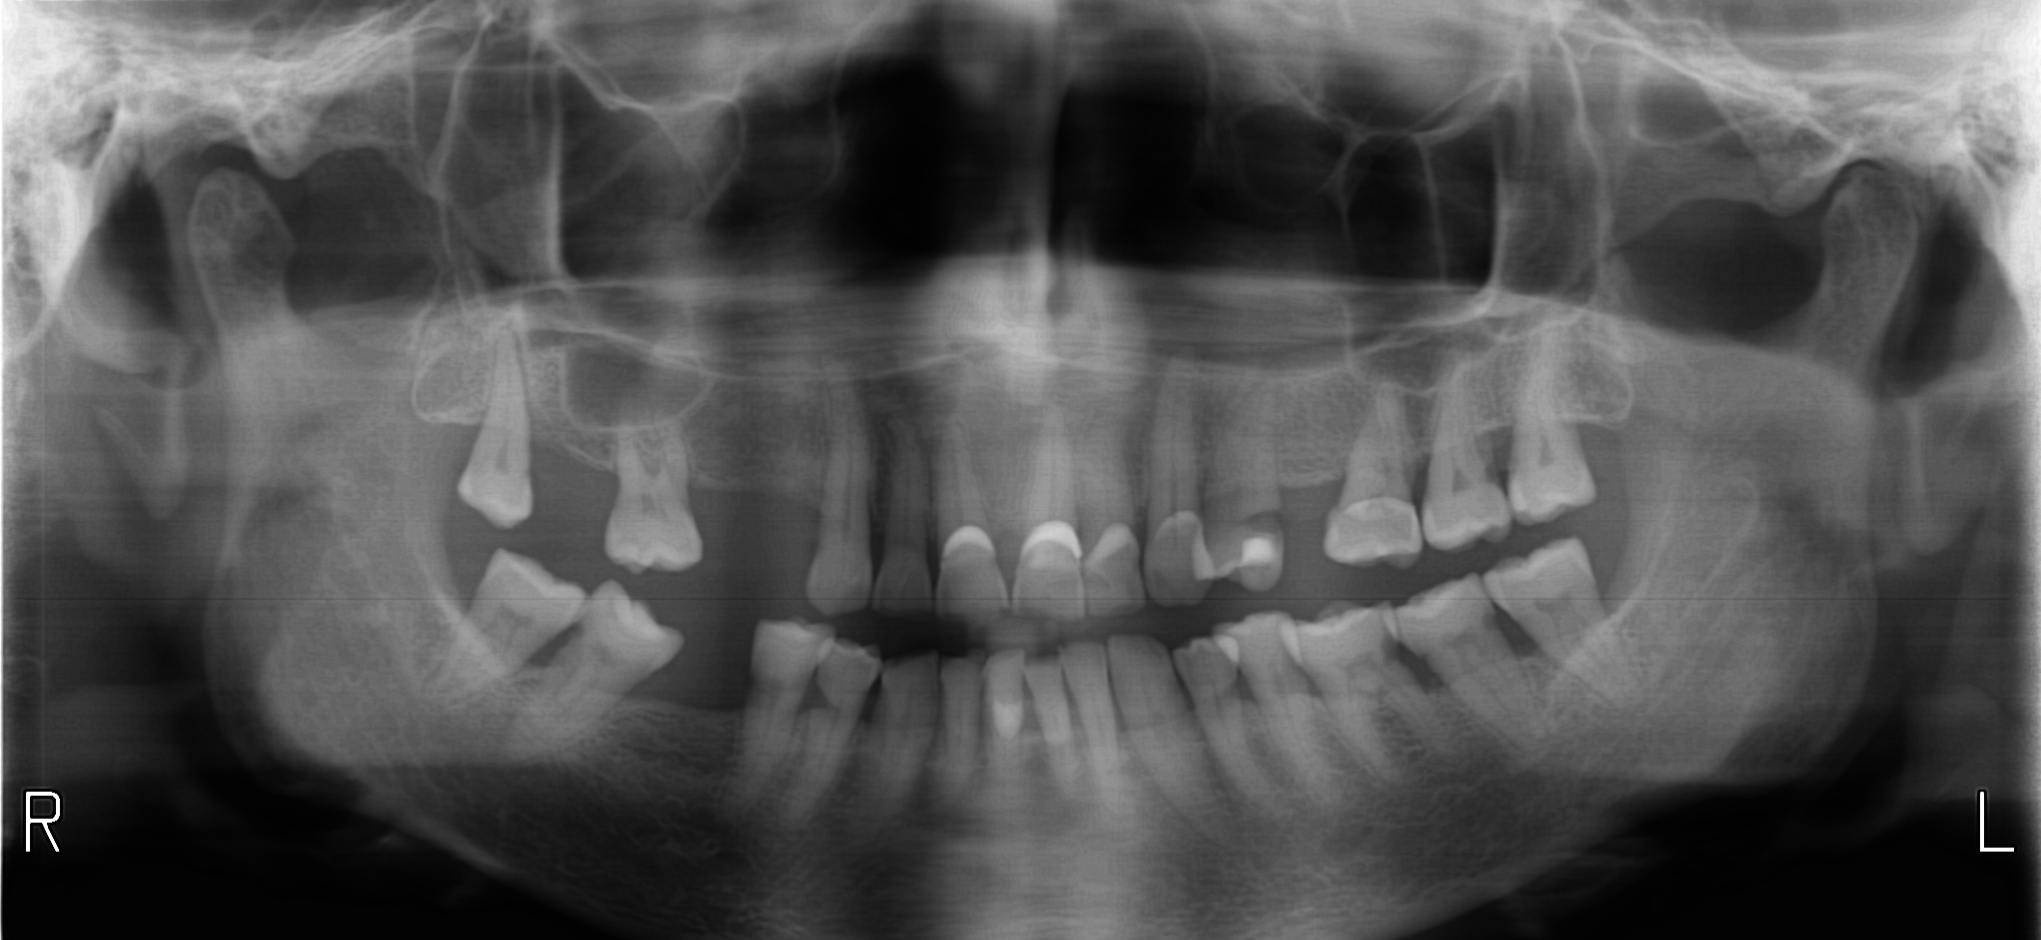cavity: (745, 676, 758, 713), (1243, 516, 1276, 530), (1386, 633, 1399, 661), (810, 685, 824, 710), (1227, 680, 1238, 693), (1485, 617, 1496, 628)
